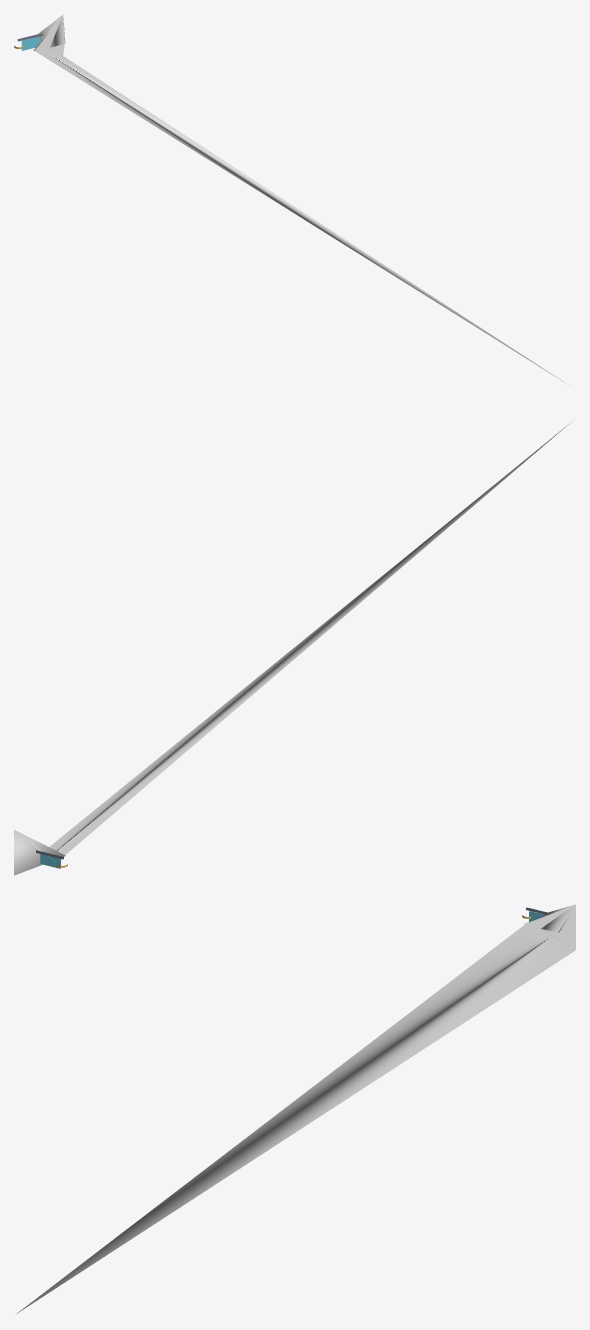
The model's file is scotch_yoke.glb.
3 renders of one model, top to bottom at view 1: azimuth 30°, elevation 25°; view 2: azimuth 150°, elevation 25°; view 3: azimuth 330°, elevation 25°, orthographic. The views are drawn at different scales.
Parts seen in each view (by area): view 1: OutputShaft; view 2: OutputShaft; view 3: OutputShaft.
Boxes of the visible parts, x1,y1,x2,y2 form: OutputShaft: (33, 14, 567, 384); OutputShaft: (14, 423, 569, 875); OutputShaft: (16, 904, 575, 1313).
Size of the model in its own units: 4.3 by 3.55 by 79.08.
